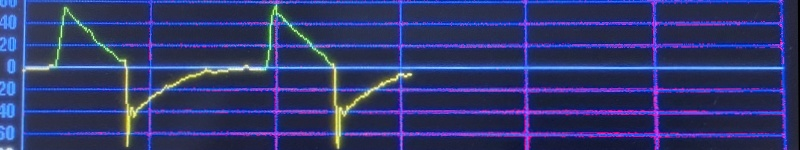normal_flow: (22, 2, 420, 150)
